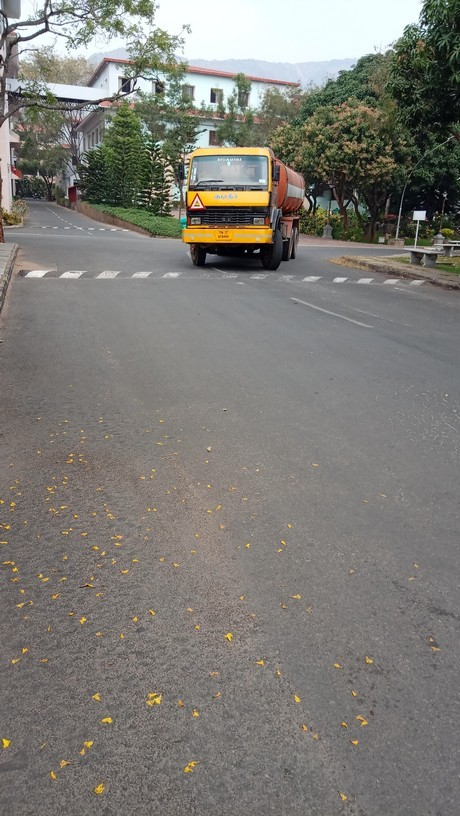bump: (16, 266, 433, 290)
